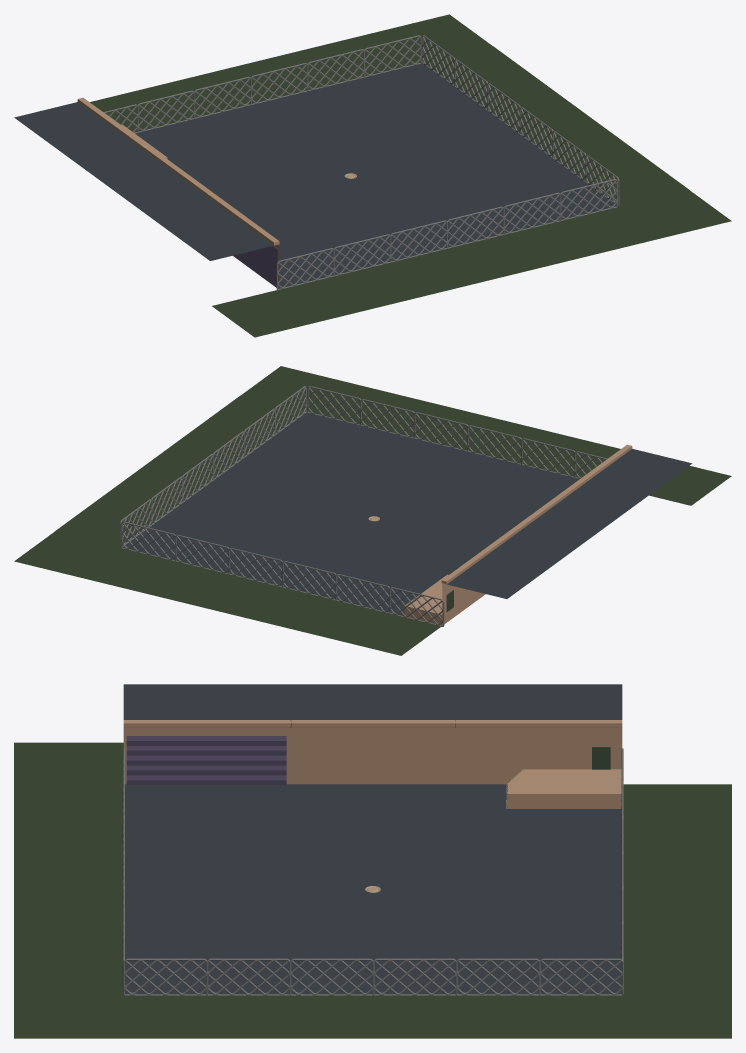
File: MapaPrueba.glb
3 renders of one model, top to bottom at view 1: azimuth 30°, elevation 25°; view 2: azimuth 150°, elevation 25°; view 3: azimuth 270°, elevation 25°, orthographic. The views are drawn at different scales.
Visible parts, largest first — view 1: Plane, Plane.010, Plane.002, Plane.008, Plane.001, Plane.009, Plane.007, Plane.006, Plane.003; view 2: Plane, Plane.008, Plane.002, Plane.010, Plane.001, Plane.007, Plane.009, Plane.006, Cube; view 3: Plane, Plane.002, Plane.010, Plane.008, Plane.001, Plane.006, Plane.003, Cube, Plane.007, Plane.009.
Boxes of the visible parts, box(x1,y1,x2,y2) form: Plane: box(135, 63, 616, 288); Plane.010: box(212, 189, 731, 337); Plane.002: box(14, 97, 279, 288); Plane.008: box(90, 14, 491, 132); Plane.001: box(425, 46, 688, 206); Plane.009: box(276, 179, 617, 289); Plane.007: box(103, 35, 421, 133); Plane.006: box(421, 35, 619, 206); Plane.003: box(233, 246, 277, 287); Plane: box(123, 412, 579, 615); Plane.008: box(14, 531, 441, 655); Plane.002: box(441, 444, 692, 625); Plane.010: box(240, 366, 731, 505); Plane.001: box(55, 396, 303, 547); Plane.007: box(121, 521, 444, 626); Plane.009: box(307, 386, 607, 478); Plane.006: box(120, 386, 306, 547); Cube: box(404, 574, 479, 625); Plane: box(125, 784, 621, 994); Plane.002: box(123, 684, 622, 784); Plane.010: box(14, 742, 123, 1038); Plane.008: box(622, 784, 731, 1038); Plane.001: box(123, 995, 622, 1038); Plane.006: box(123, 958, 623, 995); Plane.003: box(126, 735, 286, 784); Cube: box(507, 769, 621, 808); Plane.007: box(621, 748, 623, 993); Plane.009: box(122, 748, 124, 991).
Bounding box in the file's own units: 84.52 × 8.47 × 86.36.
